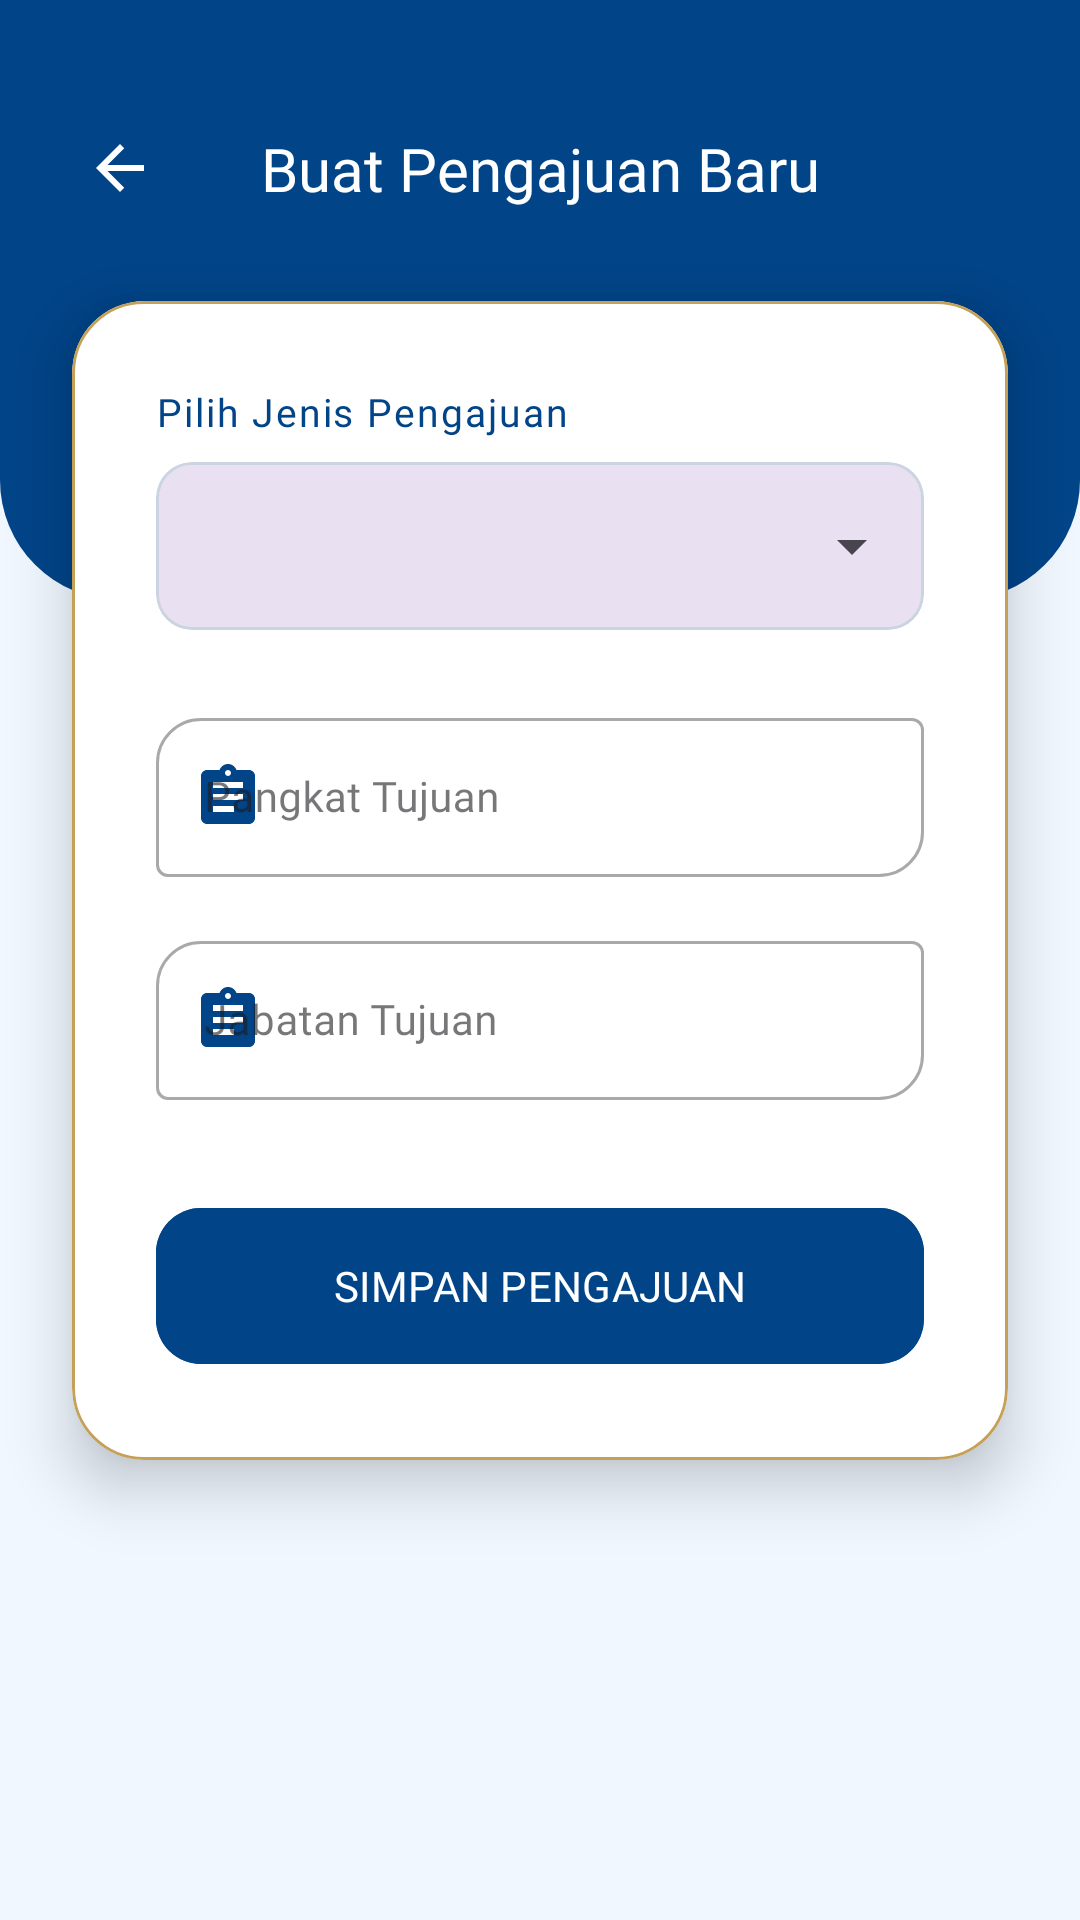

Icons on this 1080 × 1920 Android screen, each with the point to tap as (x,y):
arrow back: (120,168)
